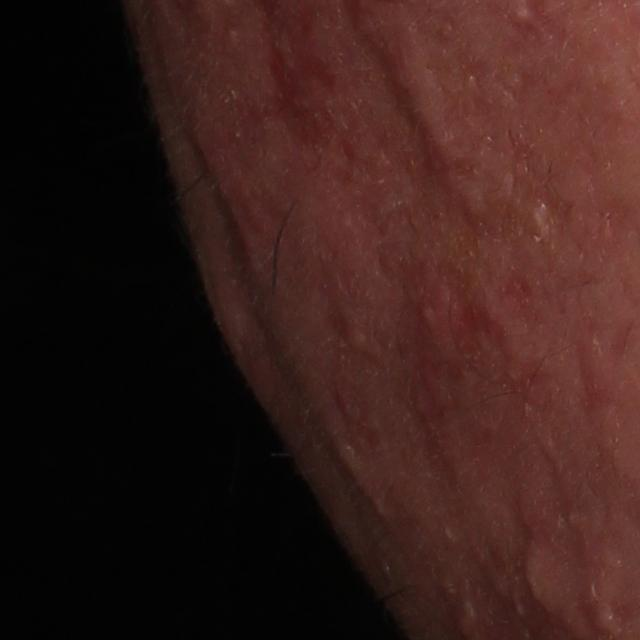atrophic_scar: (320, 83, 501, 279), (411, 273, 550, 494), (237, 41, 340, 157)
hypertrophic_scar: (356, 4, 460, 167), (527, 201, 557, 241)
